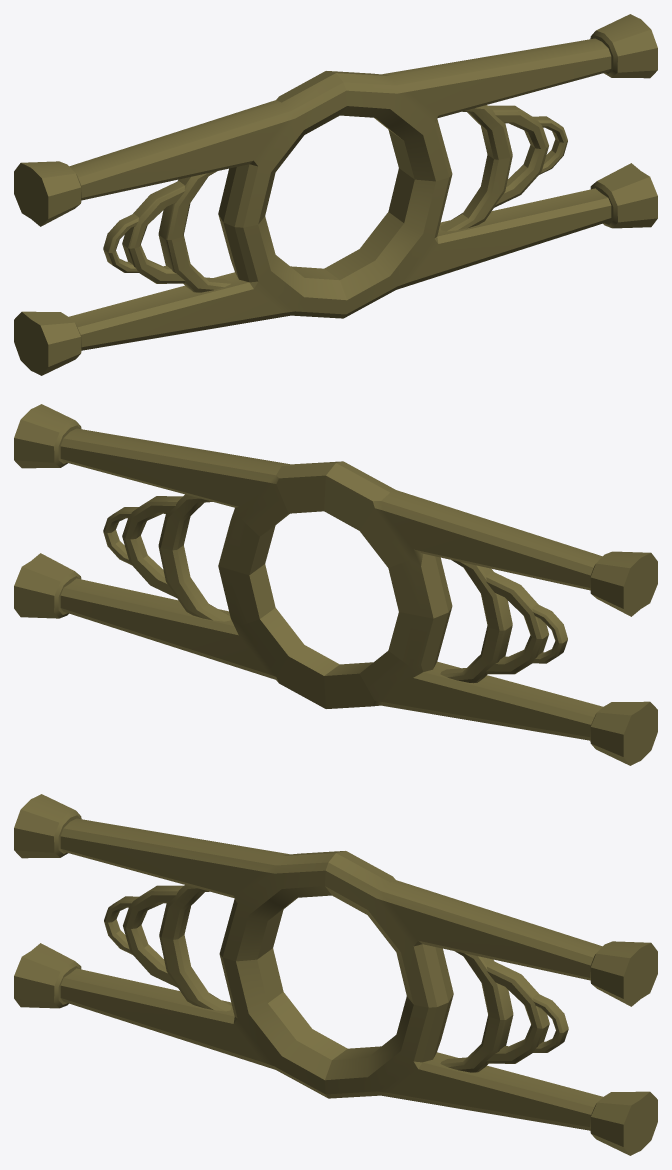
File: Large_Cylinder_Support_Obstacle_Mesh_01.fbx
3 views of the same model, one above another, from view 1: azimuth 30°, elevation 25°; view 2: azimuth 150°, elevation 25°; view 3: azimuth 330°, elevation 25° (orthographic).
Visible parts, largest first — view 1: Large_Cylinder_Obstacle_Support; view 2: Large_Cylinder_Obstacle_Support; view 3: Large_Cylinder_Obstacle_Support.
Boxes of the visible parts, <box> form: Large_Cylinder_Obstacle_Support: <box>14,14,657,375</box>; Large_Cylinder_Obstacle_Support: <box>14,404,657,765</box>; Large_Cylinder_Obstacle_Support: <box>14,794,657,1155</box>.
Bounding box in the file's own units: 54.58 × 20.87 × 5.33.
